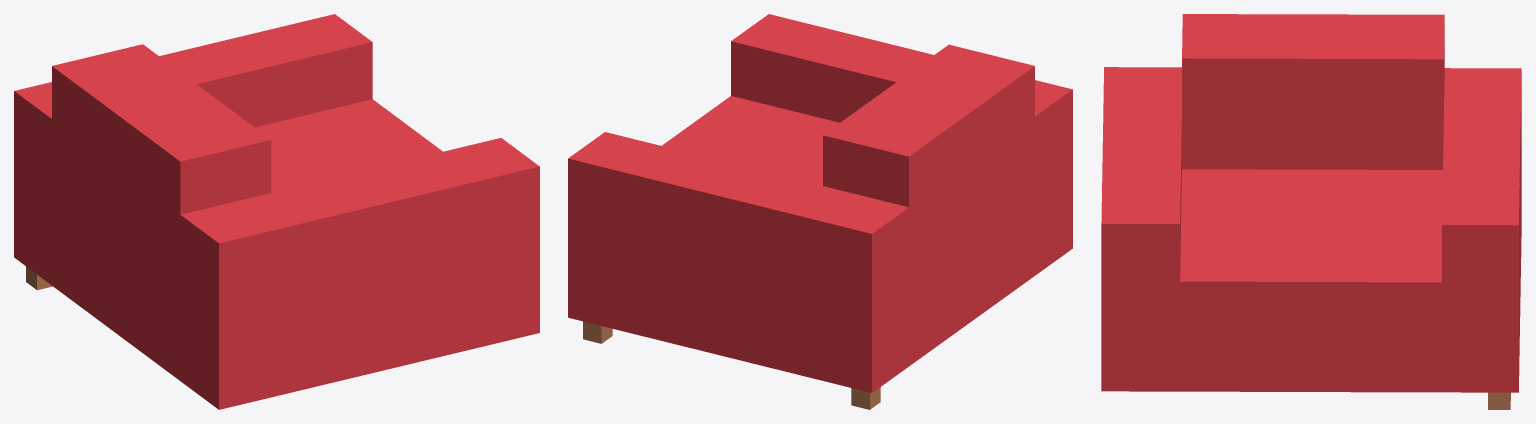
File: Singel Chair.fbx
The picture shows the model from 3 angles, left to right: view 1: azimuth 30°, elevation 25°; view 2: azimuth 150°, elevation 25°; view 3: azimuth 270°, elevation 25°; orthographic projection. The views are drawn at different scales.
Visible parts, largest first — view 1: arm chair; view 2: arm chair, Cube.003, Cube.004; view 3: arm chair, Cube.004.
Boxes of the visible parts, left/top/right/bottom form: arm chair: left=14, top=14, right=539, bottom=409; arm chair: left=568, top=14, right=1072, bottom=392; Cube.003: left=851, top=387, right=880, bottom=409; Cube.004: left=583, top=321, right=612, bottom=343; arm chair: left=1101, top=14, right=1521, bottom=392; Cube.004: left=1488, top=392, right=1510, bottom=409.
Size of the model in its own units: 81.12 by 58.34 by 91.1.
